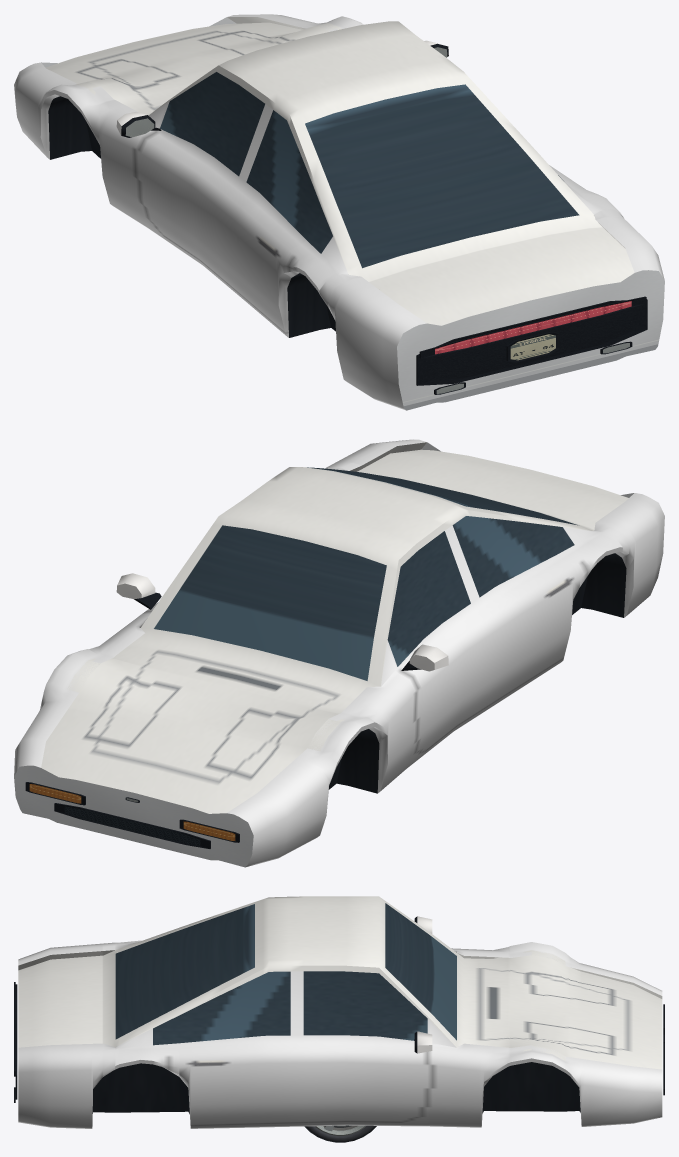
The model's file is fenda_30.glb.
3 views of the same model, one above another, from view 1: azimuth 30°, elevation 25°; view 2: azimuth 150°, elevation 25°; view 3: azimuth 270°, elevation 25° (orthographic). The views are drawn at different scales.
Parts seen in each view (by area): view 1: Carroceria_fenda_30; view 2: Carroceria_fenda_30; view 3: Carroceria_fenda_30, Roda_fenda_30.
Part boxes in pixels (<box>): Carroceria_fenda_30: <box>14,14,664,410</box>; Carroceria_fenda_30: <box>14,439,664,867</box>; Carroceria_fenda_30: <box>14,896,664,1128</box>; Roda_fenda_30: <box>304,1125,376,1142</box>.
Size of the model in its own units: 2.02 by 1.55 by 4.3.
Materials: 5 (5 with a texture image).
